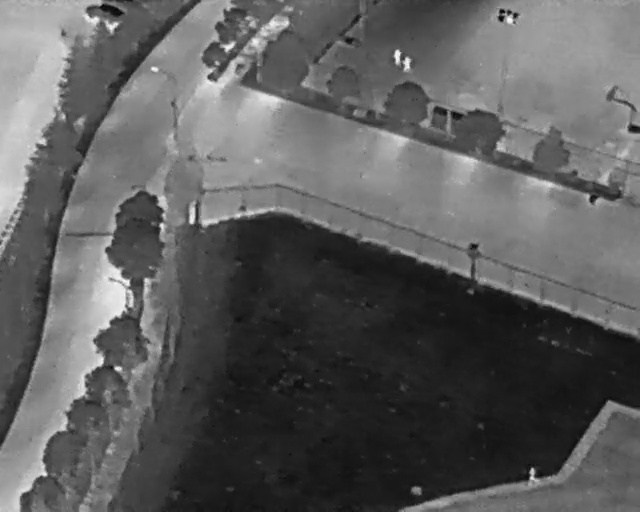Car: (81, 0, 128, 30)
Person: (527, 466, 539, 485), (402, 56, 413, 73), (393, 47, 402, 66)
